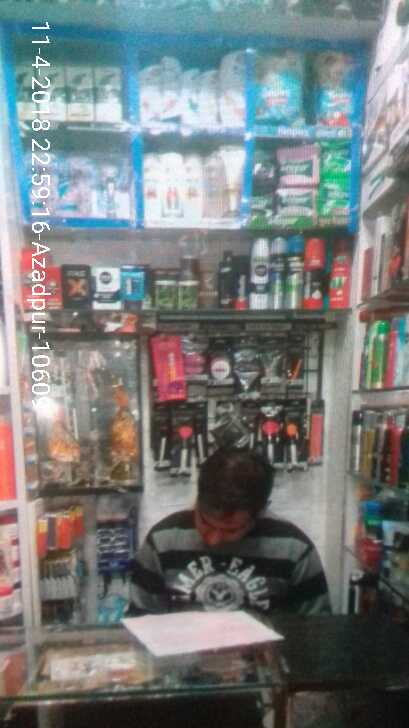gillete: (303, 237, 326, 309), (269, 236, 287, 309), (287, 236, 303, 309), (235, 256, 249, 309)
venus: (63, 159, 99, 215), (29, 152, 61, 214), (102, 159, 131, 217)
